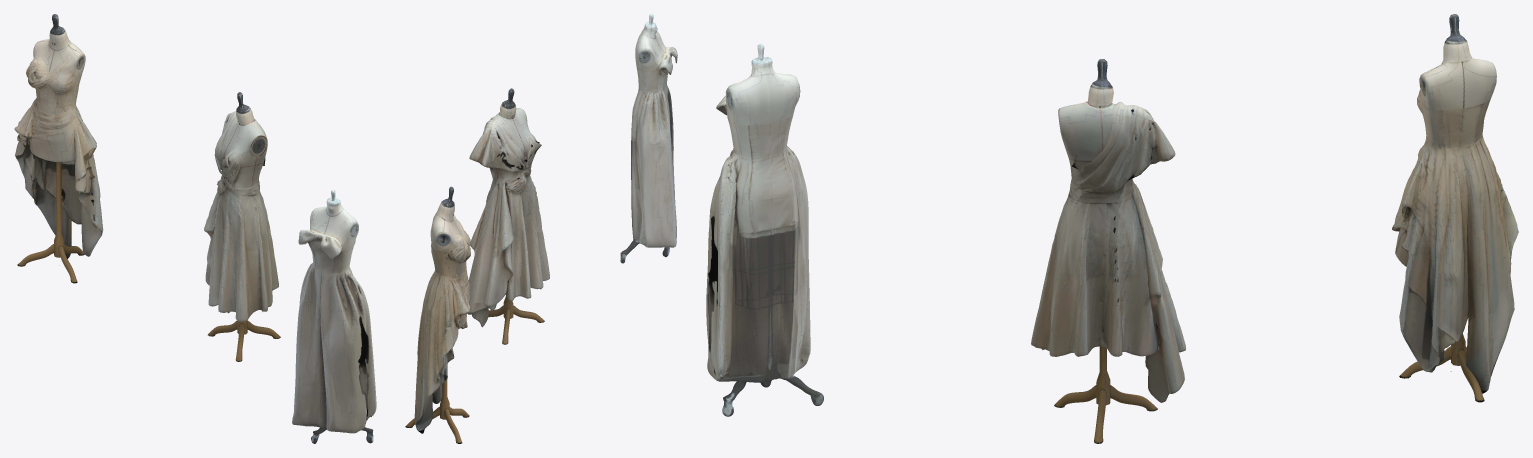
The model's file is Dress_LOD0.glb.
3 views of the same model, side by side, from view 1: azimuth 30°, elevation 25°; view 2: azimuth 150°, elevation 25°; view 3: azimuth 270°, elevation 25° (orthographic). The views are drawn at different scales.
Parts seen in each view (by area): view 1: Dress_LOD0; view 2: Dress_LOD0; view 3: Dress_LOD0.
Part boxes in pixels (<box>): Dress_LOD0: <box>14,14,376,443</box>; Dress_LOD0: <box>405,14,677,443</box>; Dress_LOD0: <box>706,14,1518,443</box>.
Bounding box in the file's own units: 1.05 × 2.01 × 4.06.
1 material, 1 textured.
